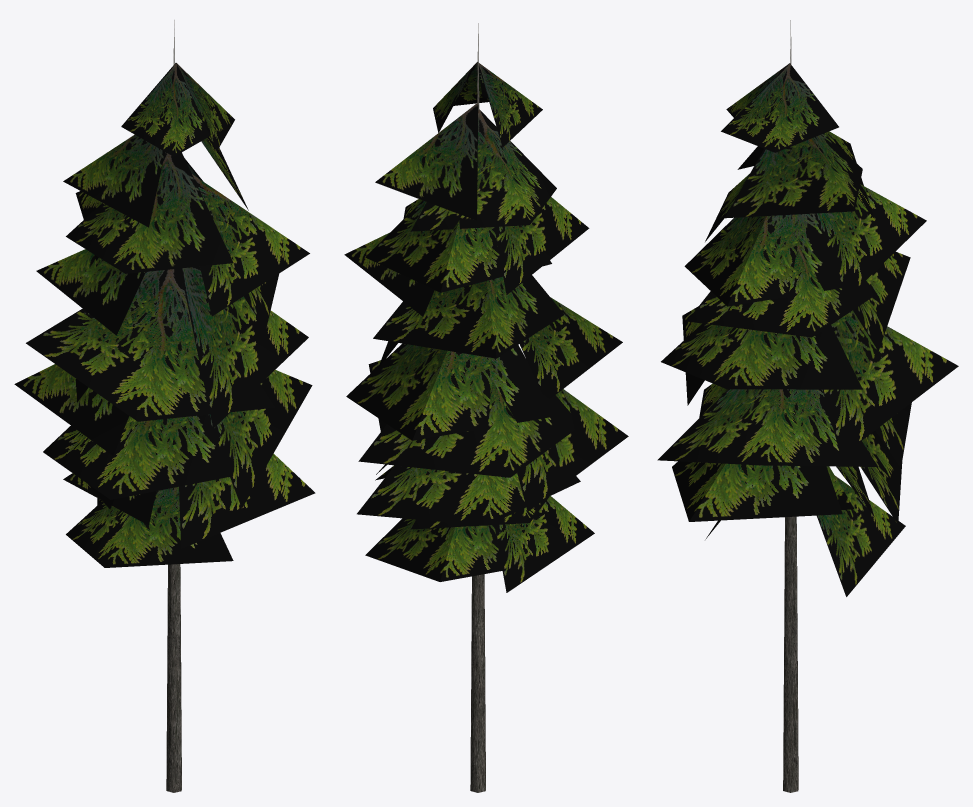
File: Tree-A-02.fbx
3 renders of one model, left to right at view 1: azimuth 30°, elevation 25°; view 2: azimuth 150°, elevation 25°; view 3: azimuth 270°, elevation 25°, orthographic.
Parts seen in each view (by area): view 1: Tree-01; view 2: Tree-01; view 3: Tree-01.
Boxes of the visible parts, <box> form: Tree-01: <box>14,20,315,792</box>; Tree-01: <box>344,23,628,792</box>; Tree-01: <box>657,20,958,792</box>.
Bounding box in the file's own units: 404 × 1289 × 455.
